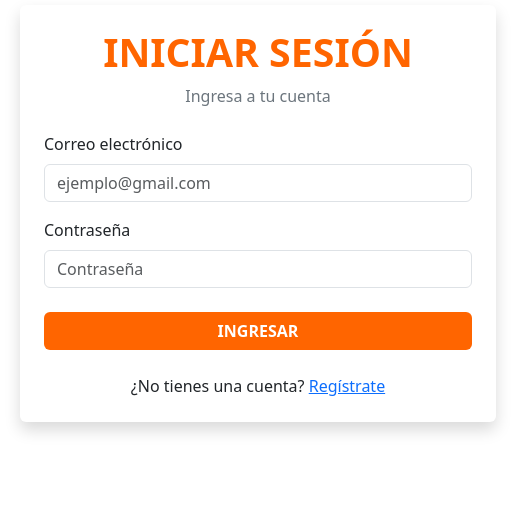
Test: Acceso, registro y roles › 1. Rechaza el inicio de sesión con campos vacíos
Click the button "INGRESAR".
click(258, 331)  # box top-left (44, 312), bottom-right (472, 350)
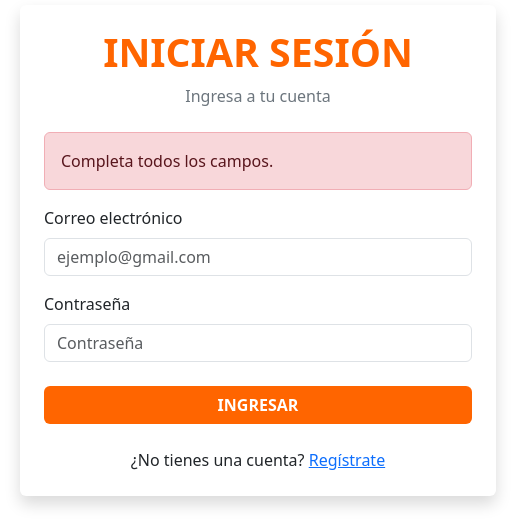
Result: the text "Completa todos los campos." is shown at top-left (44, 132), bottom-right (472, 190)
